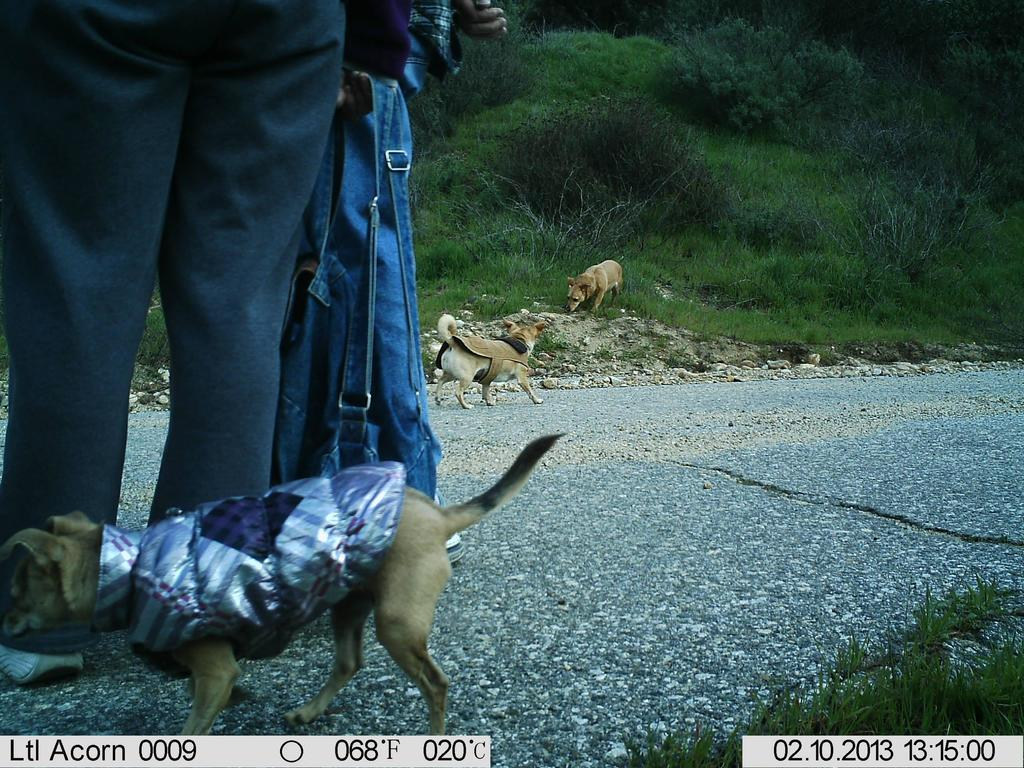dog: (1, 422, 585, 734), (427, 308, 557, 419), (555, 257, 644, 321)
